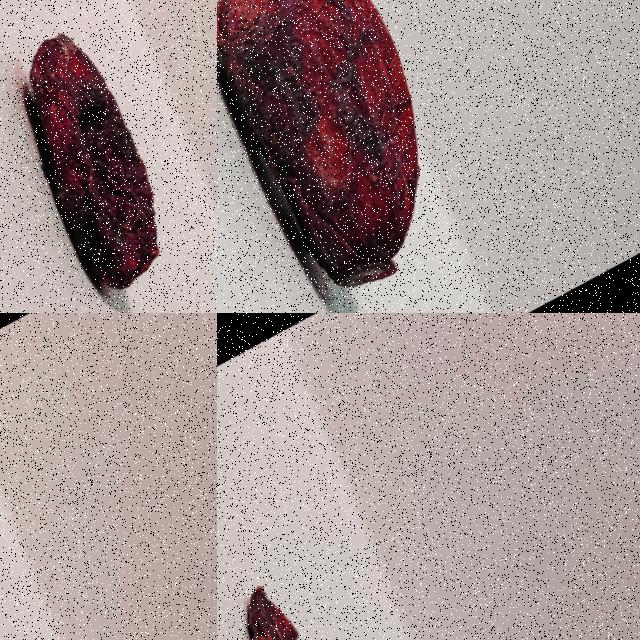Fine_cocoabeans: (217, 0, 552, 312)
Flat_cocoabeans: (0, 0, 216, 312), (217, 512, 457, 639), (0, 502, 172, 639)
